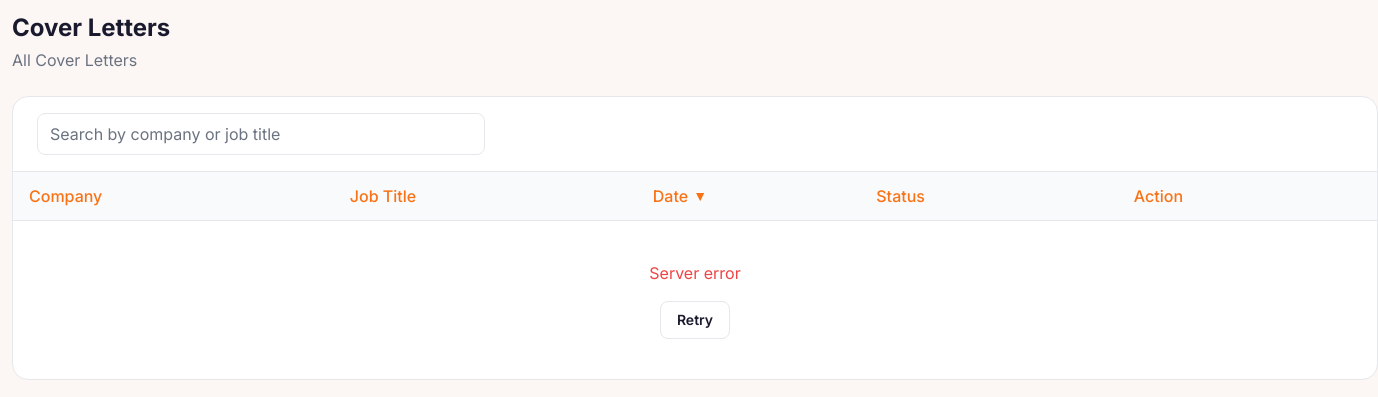
Test: CoverLettersPage › passes error state and retries on Retry click
Expected: the text "Server error" is shown, [649,261,741,285]
Click the button "Retry" at (695, 320), box [660,301,730,339]
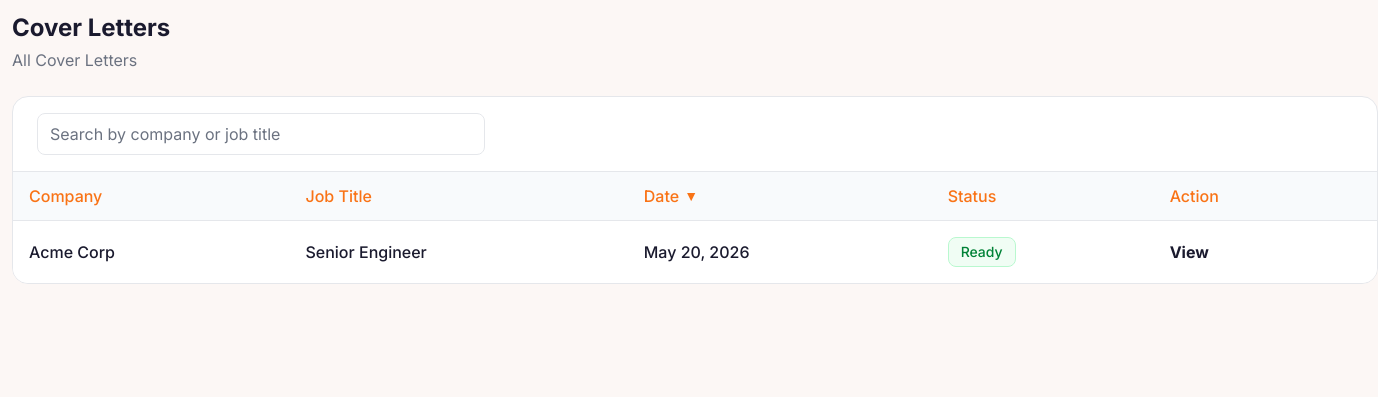
Expected: the text "Acme Corp" is shown, [29,242,115,262]
